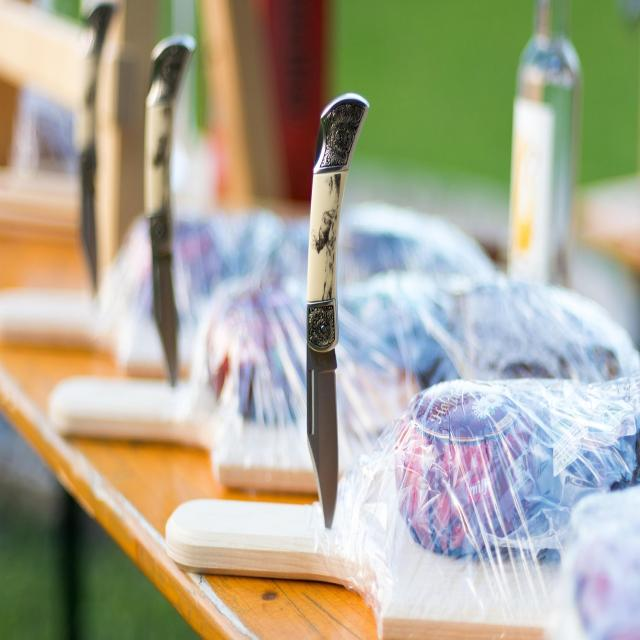Knife: (305, 93, 368, 527)
